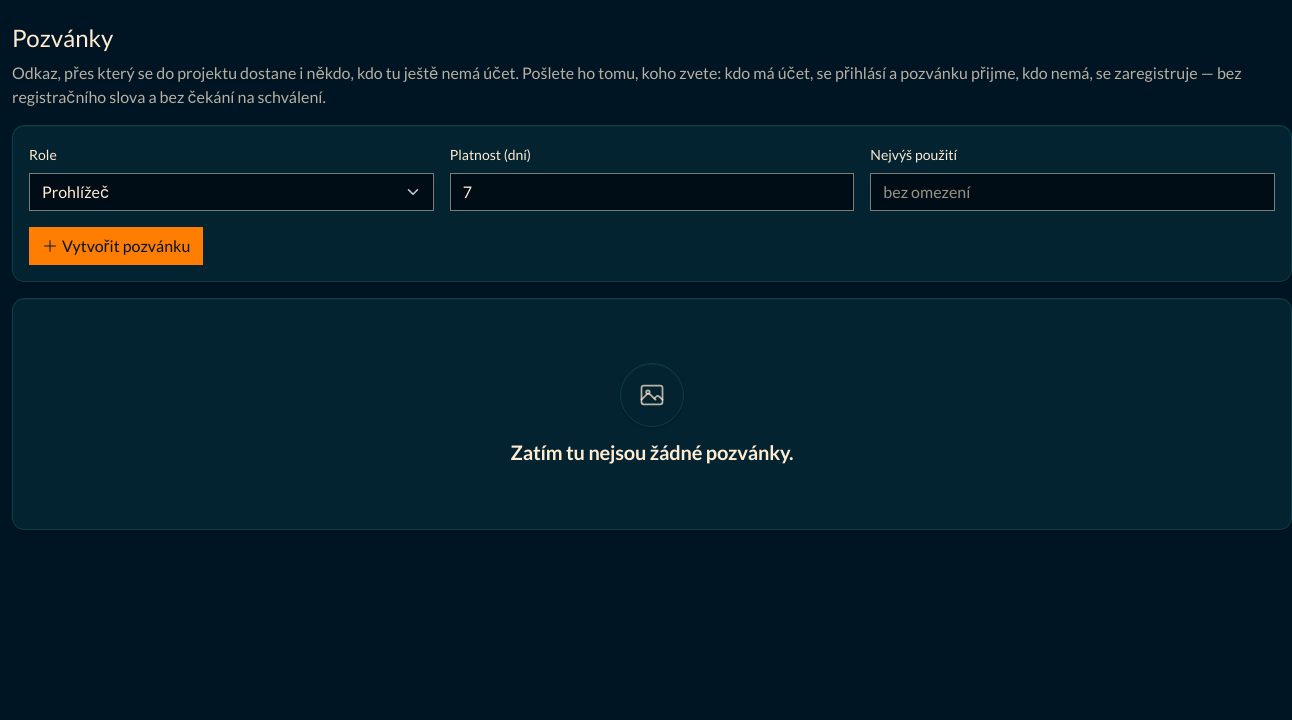
InvitesSection › creates an invite and shows its address with a copy button
This screenshot has width=1292, height=720.
Expected: the number field labelled "Platnost (dní)" holds "7", [450, 173, 854, 211]
Select "Editor" in the dropdown labelled "Role" at (231, 192), box [29, 173, 434, 211]
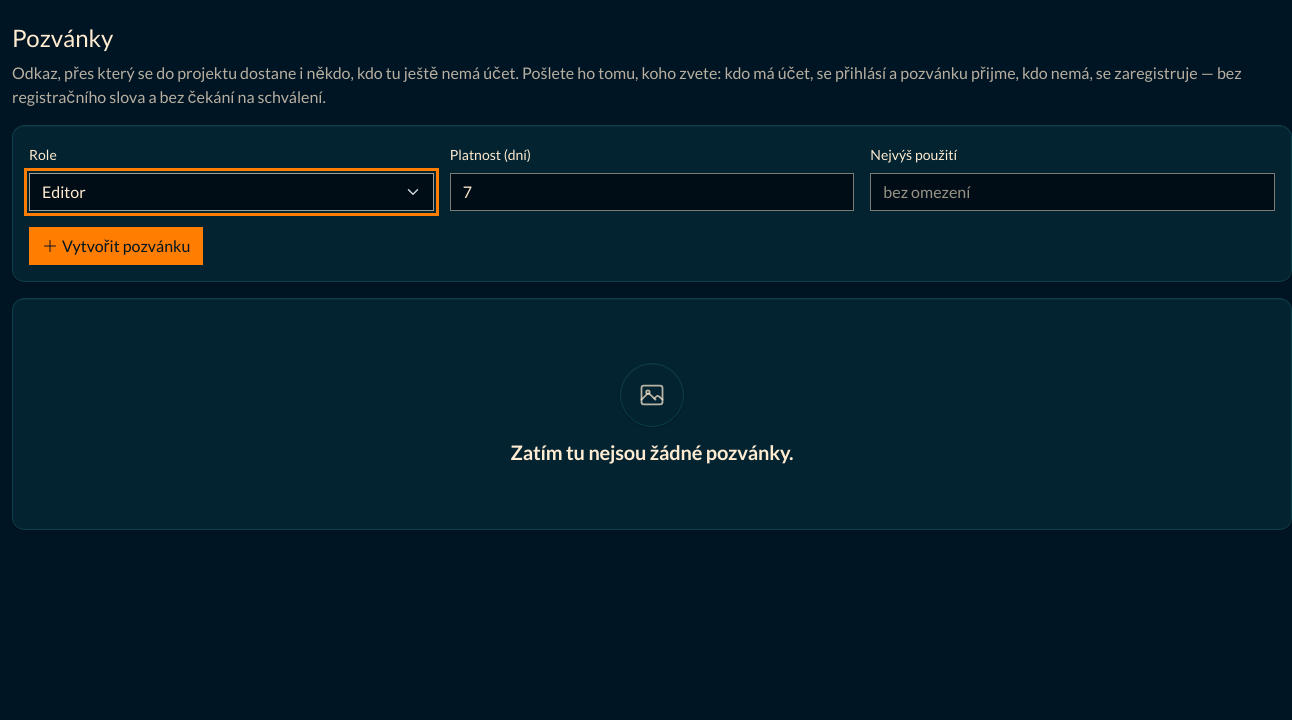
Replace the text in the number field labelled "Platnost (dní)" with "14" at (652, 192), box [450, 173, 854, 211]
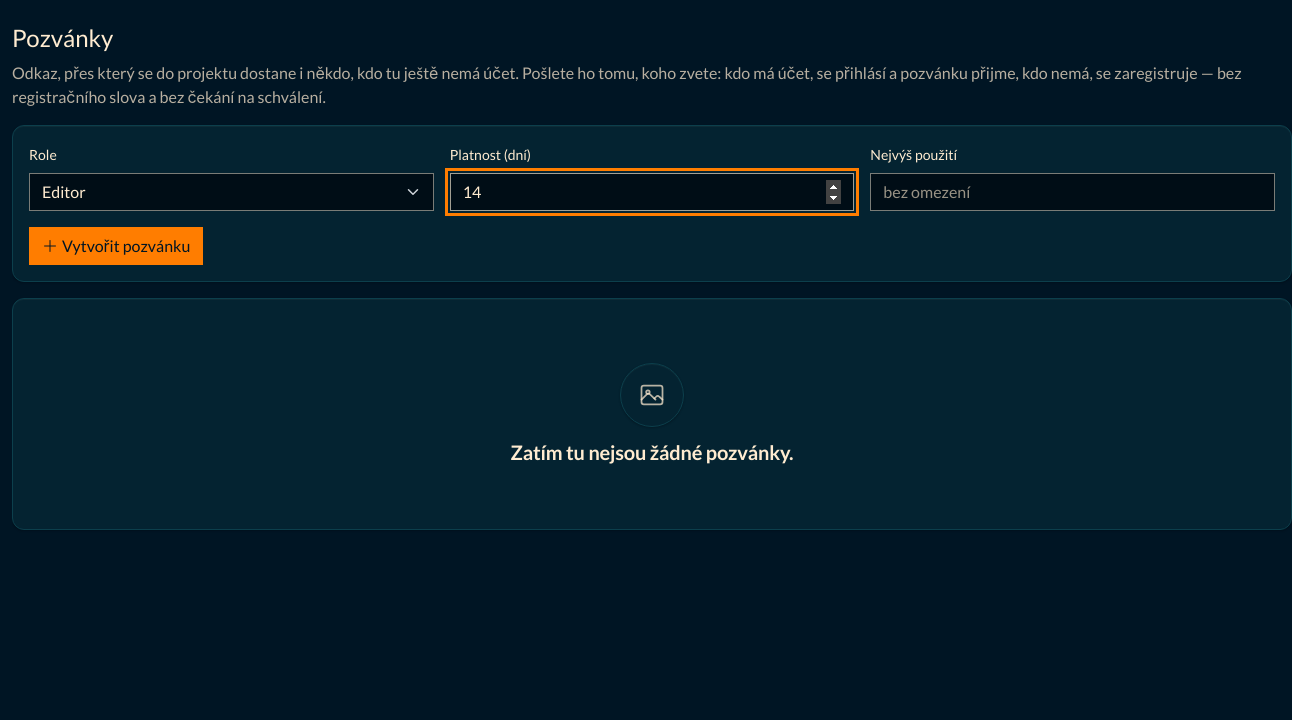
Type "3" into the number field labelled "Nejvýš použití" at (1073, 192), box [870, 173, 1275, 211]
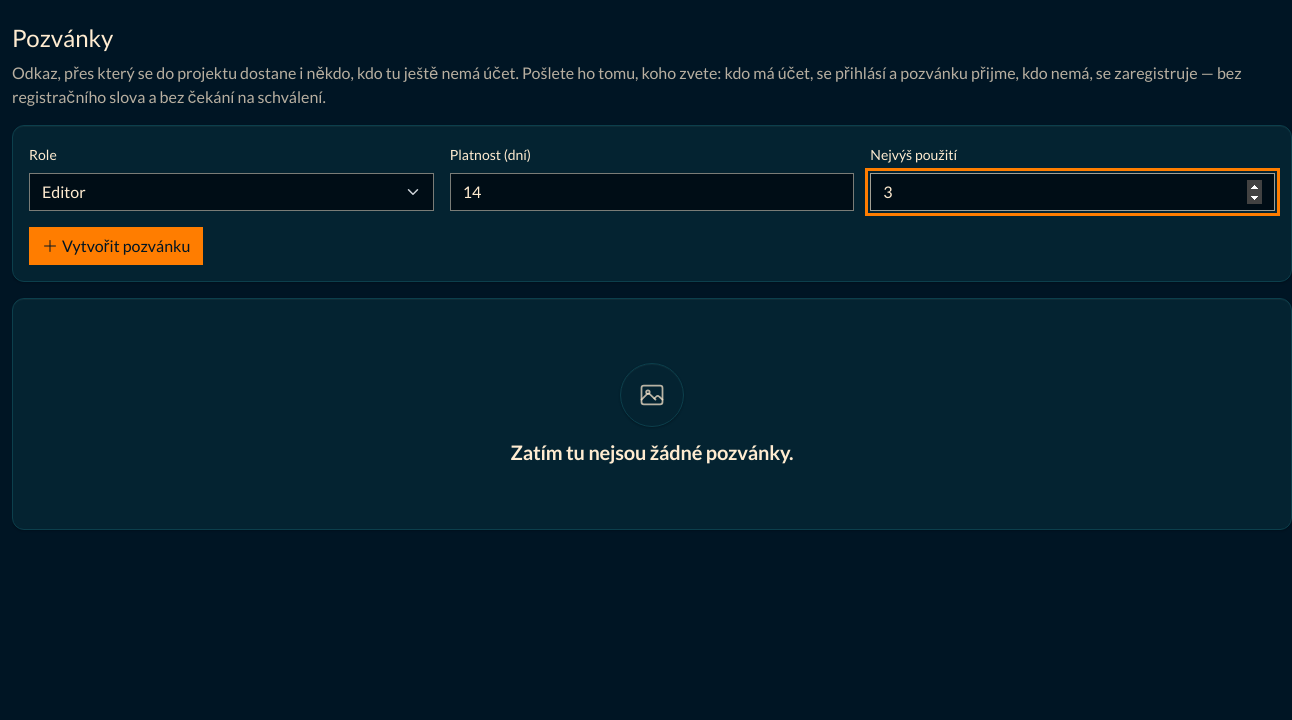
Click the button "Vytvořit pozvánku" at (116, 246), box [29, 227, 203, 265]
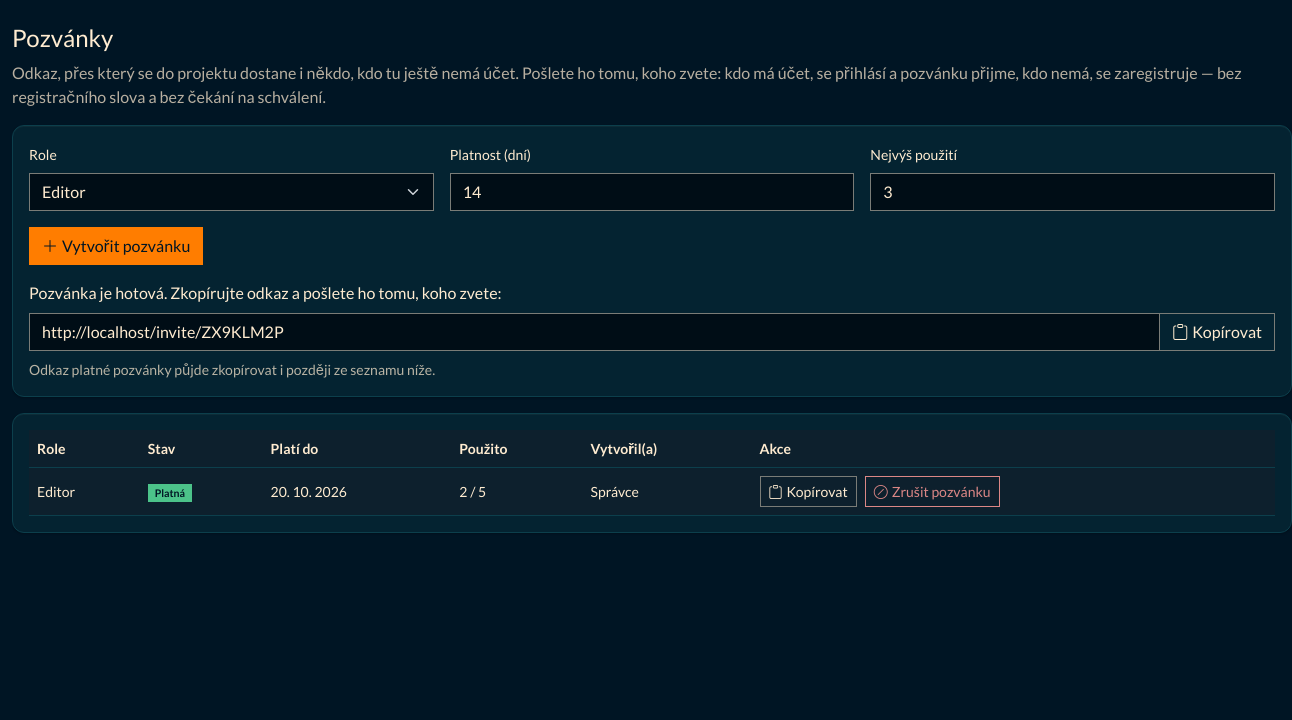
Click the button "Kopírovat" below "Nejvýš použití" at (1217, 332), box [1159, 313, 1275, 351]
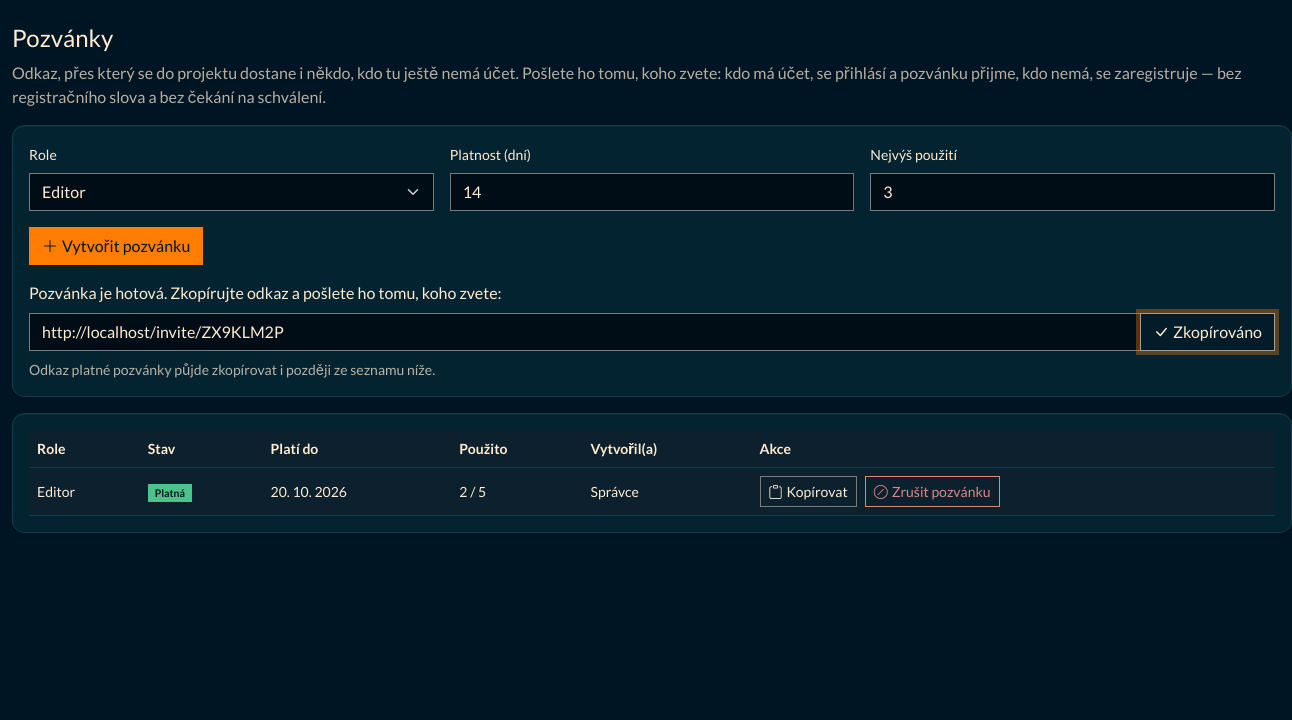
Expected: the button "Kopírovat" is shown, [760, 476, 857, 507]
Expected: the button "Zkopírováno" is shown, [1140, 313, 1275, 351]
